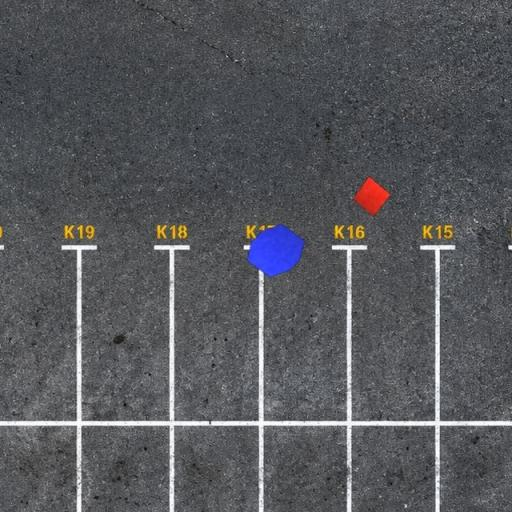RED_SQUARE: (352, 175, 391, 218)
